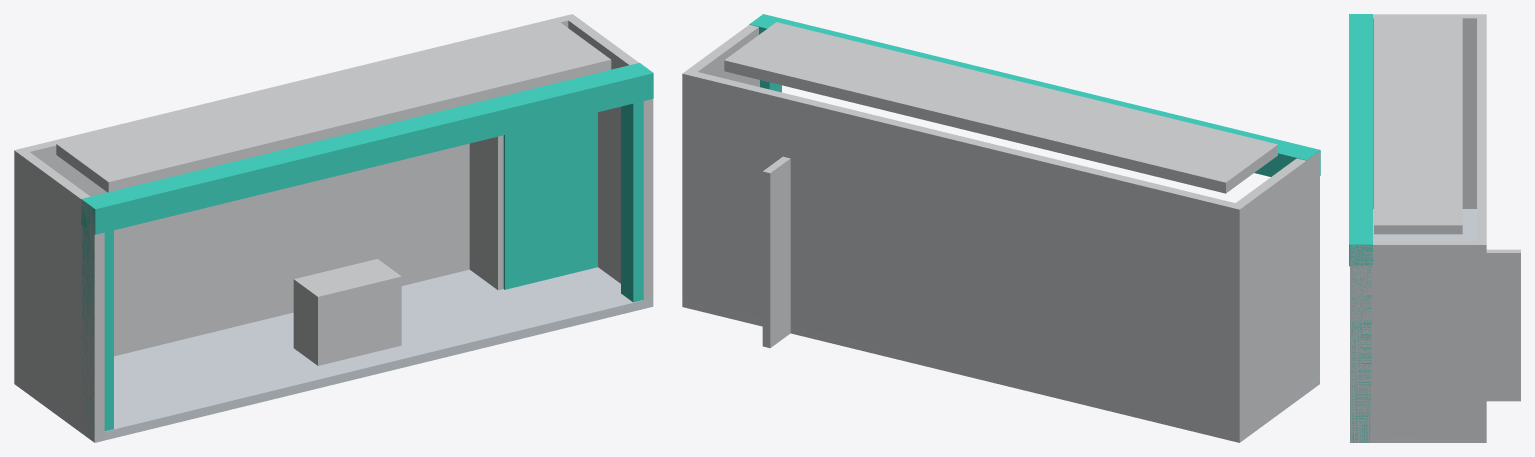
3 views of the same model, side by side, from view 1: azimuth 30°, elevation 25°; view 2: azimuth 150°, elevation 25°; view 3: azimuth 270°, elevation 25° (orthographic). The views are drawn at different scales.
Parts seen in each view (by area): view 1: Exhibition Booth Concept; view 2: Exhibition Booth Concept; view 3: Exhibition Booth Concept.
Boxes of the visible parts, x1,y1,x2,y2 form: Exhibition Booth Concept: (14, 14, 653, 442); Exhibition Booth Concept: (682, 14, 1320, 442); Exhibition Booth Concept: (1349, 14, 1520, 442).
Bounding box in the file's own units: 8 × 3.34 × 2.52.
